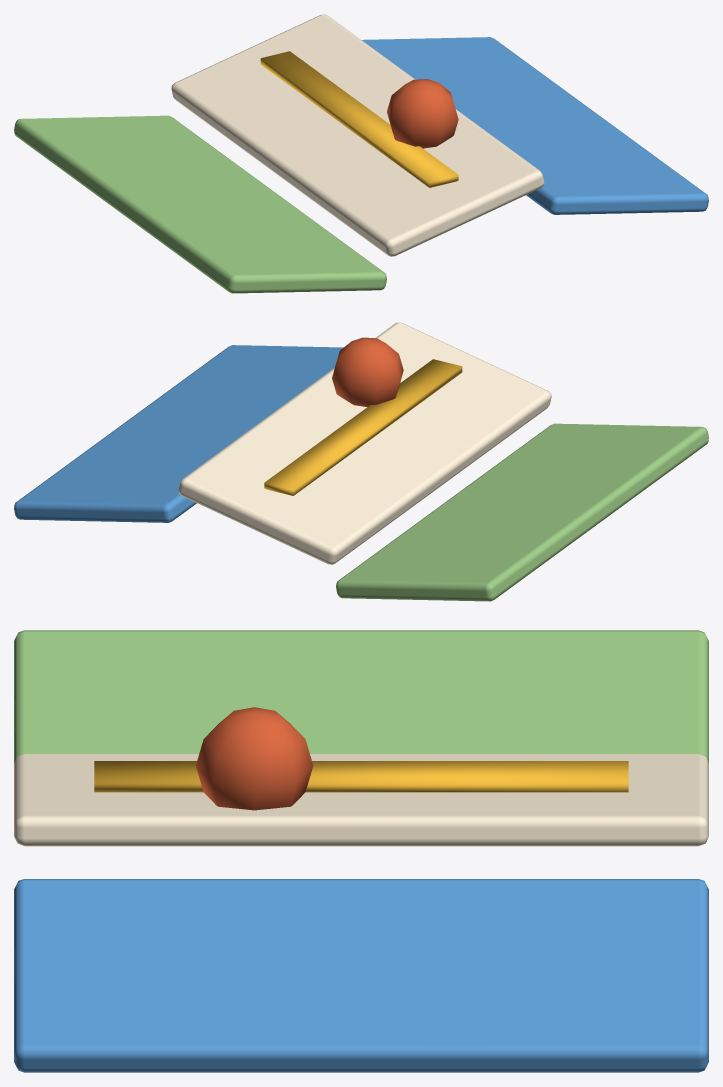
The model's file is campus_map.glb.
The picture shows the model from 3 angles, top to bottom: view 1: azimuth 30°, elevation 25°; view 2: azimuth 150°, elevation 25°; view 3: azimuth 270°, elevation 25°; orthographic projection. The views are drawn at different scales.
Parts seen in each view (by area): view 1: Panel1, Panel0, Panel2, Path.001, Pin; view 2: Panel1, Panel0, Panel2, Path.001, Pin; view 3: Panel2, Panel0, Panel1, Path.001, Pin.
Part boxes in pixels (x1,y1,x2,y2): Panel1: (171, 14, 544, 256); Panel0: (14, 115, 386, 293); Panel2: (362, 37, 708, 214); Path.001: (260, 51, 458, 187); Pin: (387, 79, 458, 148); Panel1: (178, 322, 551, 564); Panel0: (336, 423, 708, 601); Panel2: (14, 345, 343, 522); Path.001: (264, 359, 462, 495); Pin: (332, 337, 403, 406); Panel2: (14, 879, 708, 1072); Panel0: (14, 630, 708, 763); Panel1: (14, 754, 708, 846); Path.001: (94, 761, 628, 792); Pin: (196, 707, 313, 810).
Bounding box in the file's own units: 0.3284 × 0.0826 × 0.26.
